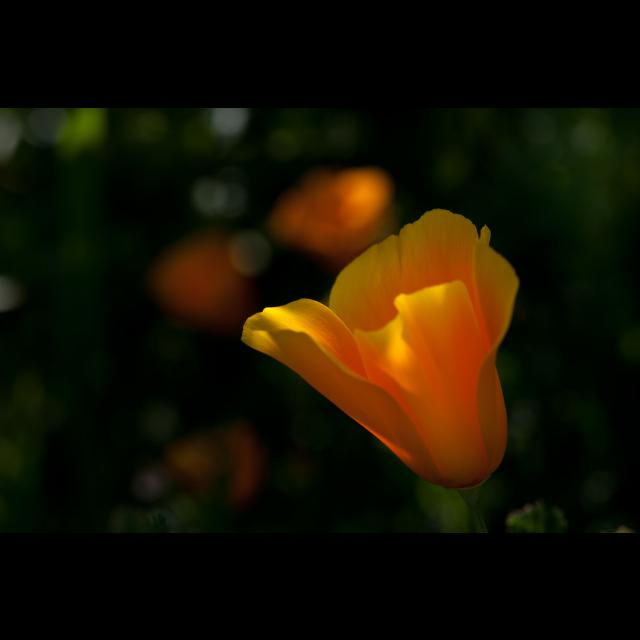Flower: (242, 200, 538, 494)
